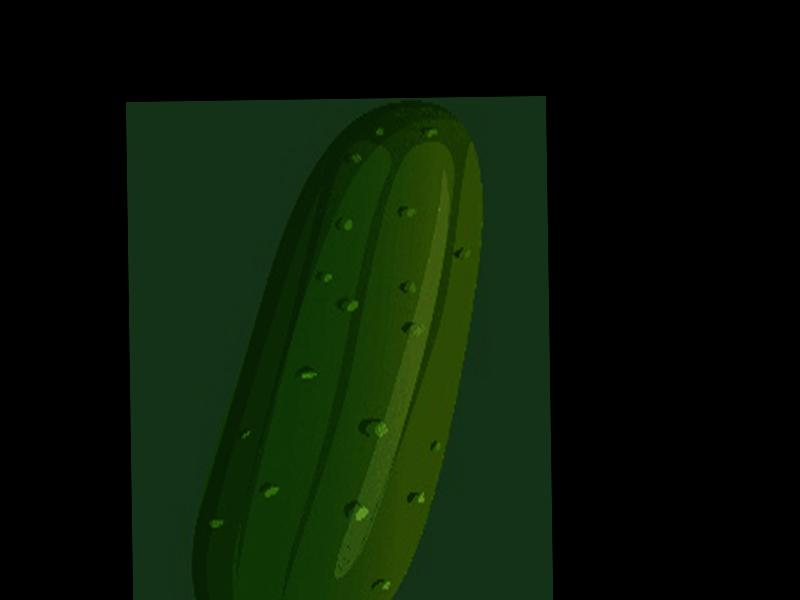Cucumber: (184, 101, 488, 600)
